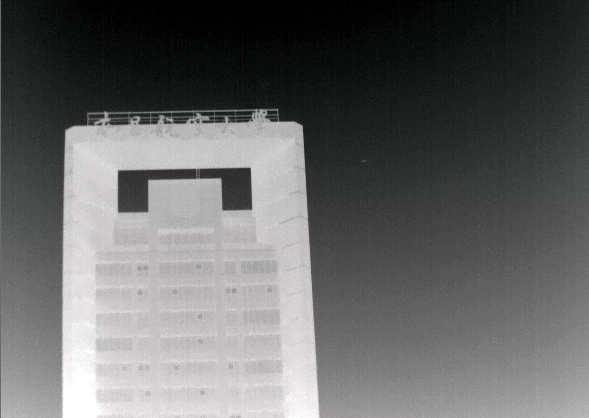dim target: (360, 158, 367, 164)
